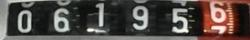digits: (130, 5, 149, 30), (170, 7, 188, 33), (206, 1, 226, 24), (53, 7, 70, 32), (16, 9, 32, 33), (95, 2, 105, 28)
